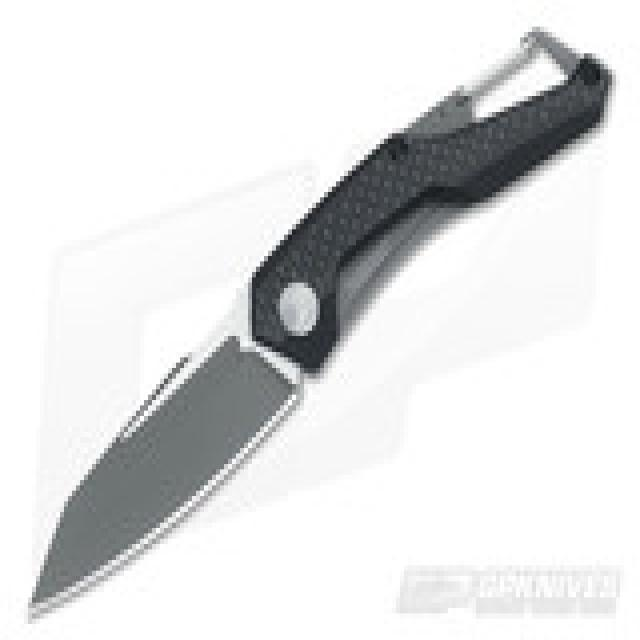Knife: (15, 31, 614, 634)
